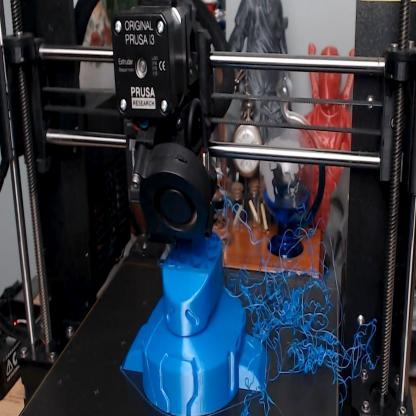fail: (233, 217, 379, 392)
